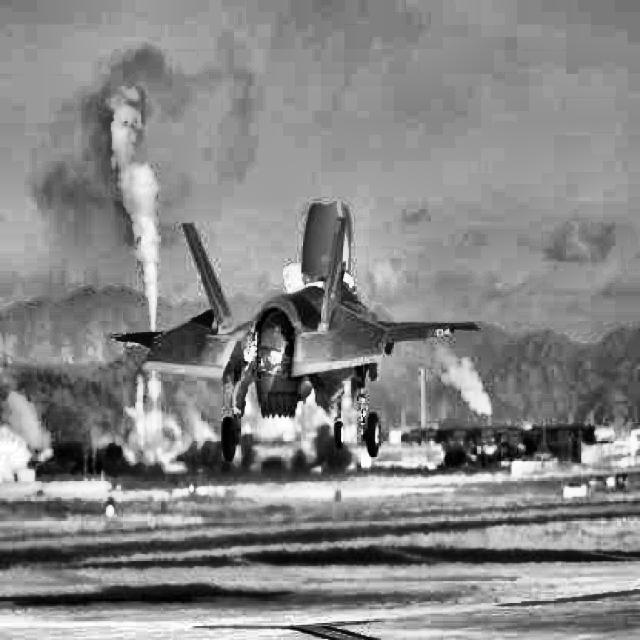F35: (107, 202, 479, 462)
